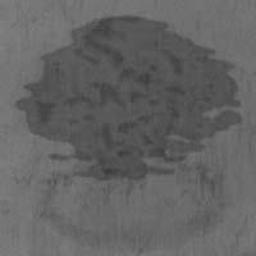Oil spot: (13, 14, 244, 256)
